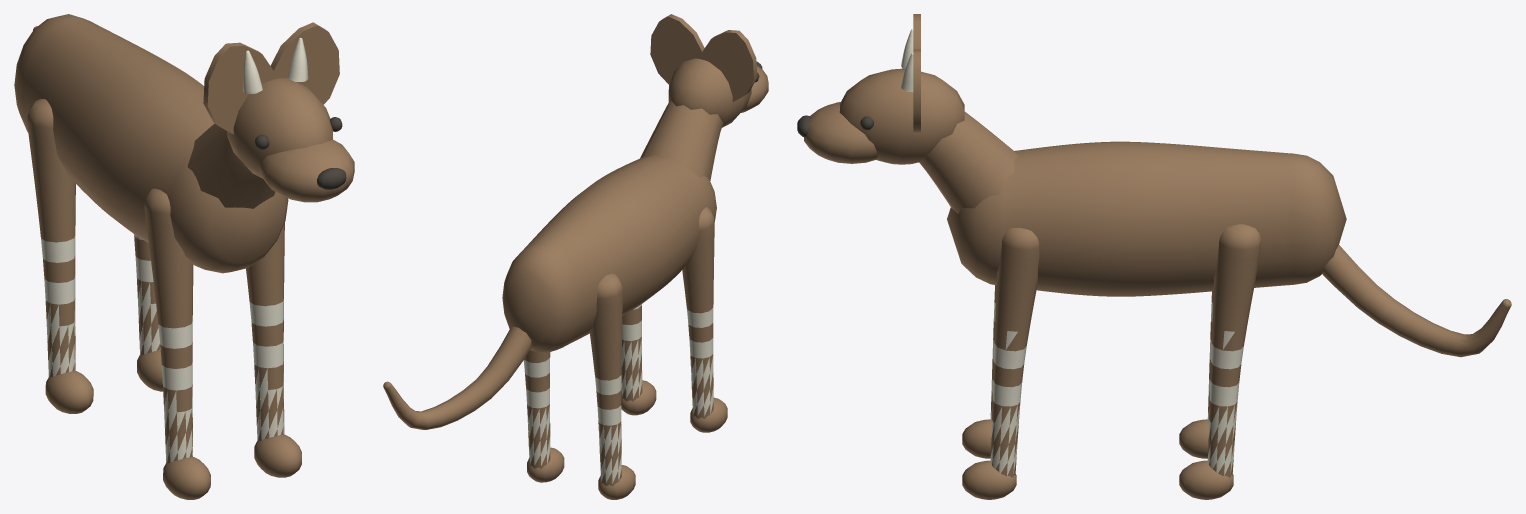
File: rainforest-and-jungle-fauna-okapi-d481ee84__21666.glb
3 views of the same model, side by side, from view 1: azimuth 30°, elevation 25°; view 2: azimuth 150°, elevation 25°; view 3: azimuth 270°, elevation 25° (orthographic). The views are drawn at different scales.
Parts seen in each view (by area): view 1: okapi; view 2: okapi; view 3: okapi.
Boxes of the visible parts, box(x1,y1,x2,y2) form: okapi: box(14, 14, 354, 499); okapi: box(383, 14, 768, 499); okapi: box(797, 14, 1511, 499).
Bounding box in the file's own units: 0.4925 × 1.44 × 2.1.
